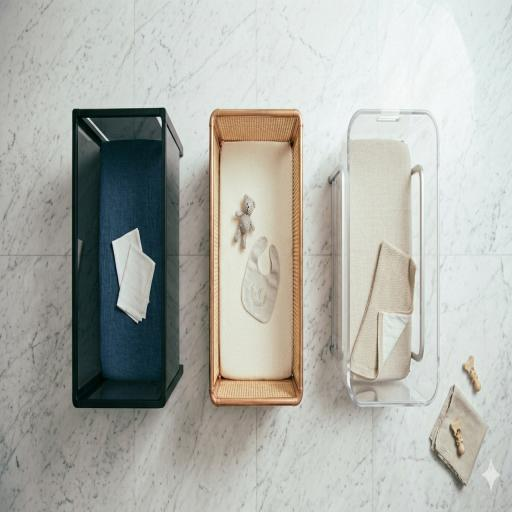crib: (73, 108, 183, 407), (330, 110, 439, 406), (210, 110, 302, 405)
